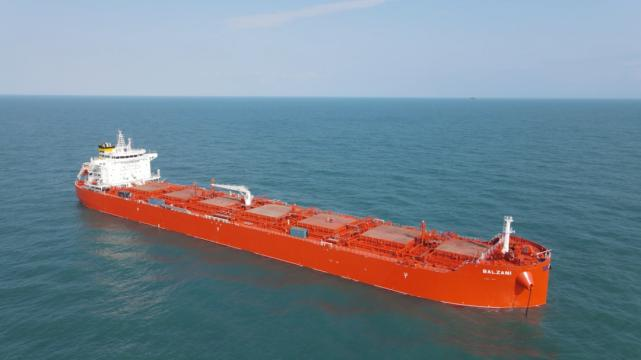Cargoship: (64, 123, 556, 311)
